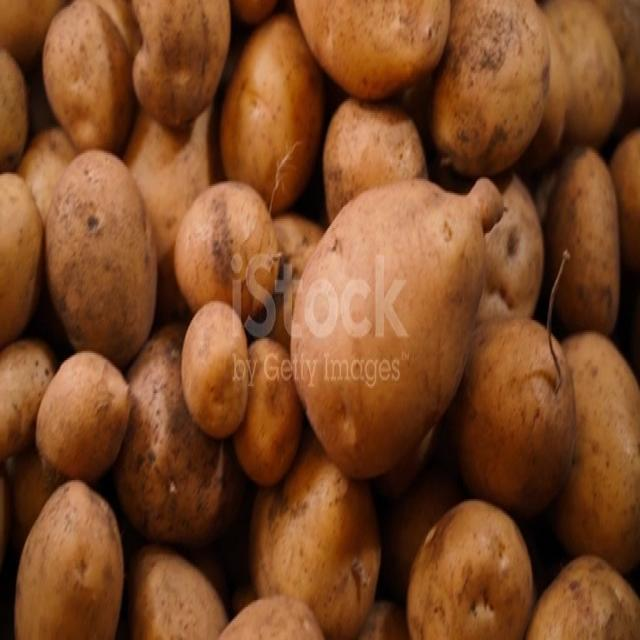potato: (291, 178, 504, 478), (114, 328, 245, 547), (250, 430, 381, 638), (448, 317, 576, 516), (48, 150, 158, 366), (432, 0, 550, 175), (220, 15, 324, 213), (555, 333, 640, 573), (124, 104, 215, 323), (406, 500, 534, 639), (16, 480, 124, 639), (524, 0, 622, 170), (174, 183, 278, 336), (295, 1, 450, 99), (42, 0, 135, 153), (545, 148, 620, 334), (322, 98, 427, 221), (132, 0, 230, 127), (36, 354, 130, 482), (234, 339, 302, 487), (526, 557, 640, 639), (181, 300, 248, 438), (129, 546, 228, 639), (0, 174, 41, 347)
